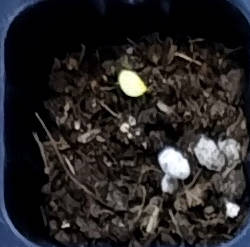pepper seed: (43, 20, 192, 118)
